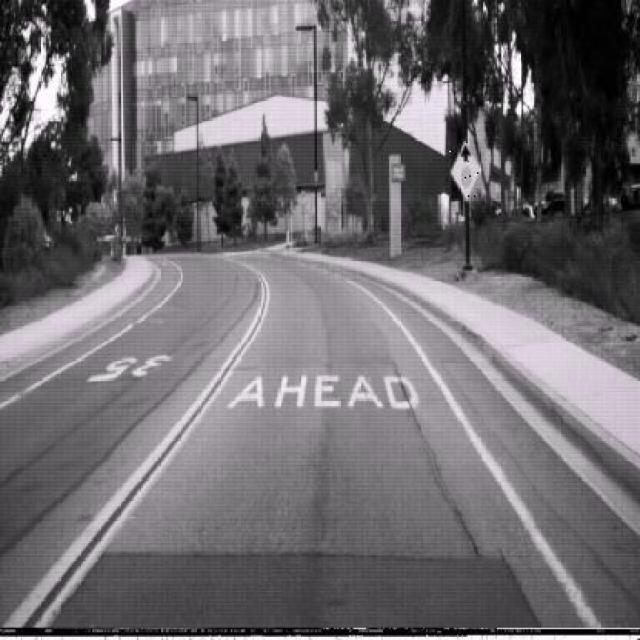stopAhead: (449, 139, 481, 201)
